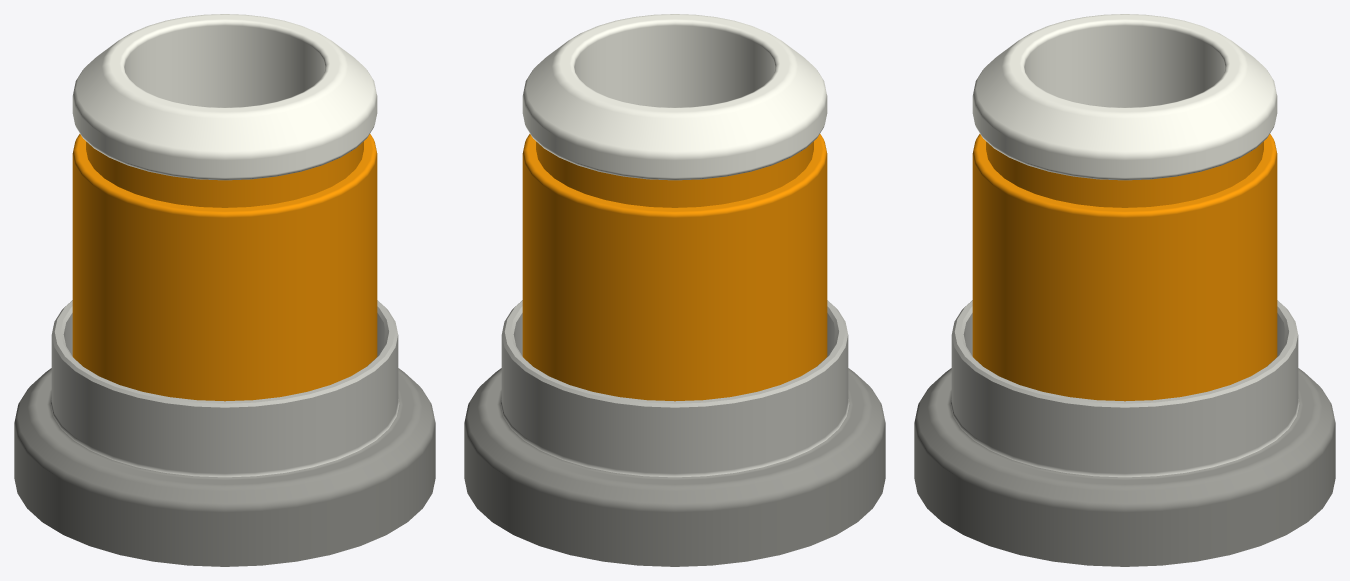
The model's file is Button #6.fbx.
The picture shows the model from 3 angles, left to right: view 1: azimuth 30°, elevation 25°; view 2: azimuth 150°, elevation 25°; view 3: azimuth 270°, elevation 25°; orthographic projection.
Visible parts, largest first — view 1: kitbash_105; view 2: kitbash_105; view 3: kitbash_105.
Boxes of the visible parts, x1,y1,x2,y2 form: kitbash_105: (14, 14, 435, 566); kitbash_105: (464, 14, 885, 566); kitbash_105: (914, 14, 1335, 566).
Size of the model in its own units: 2.1 by 2.28 by 2.1.
